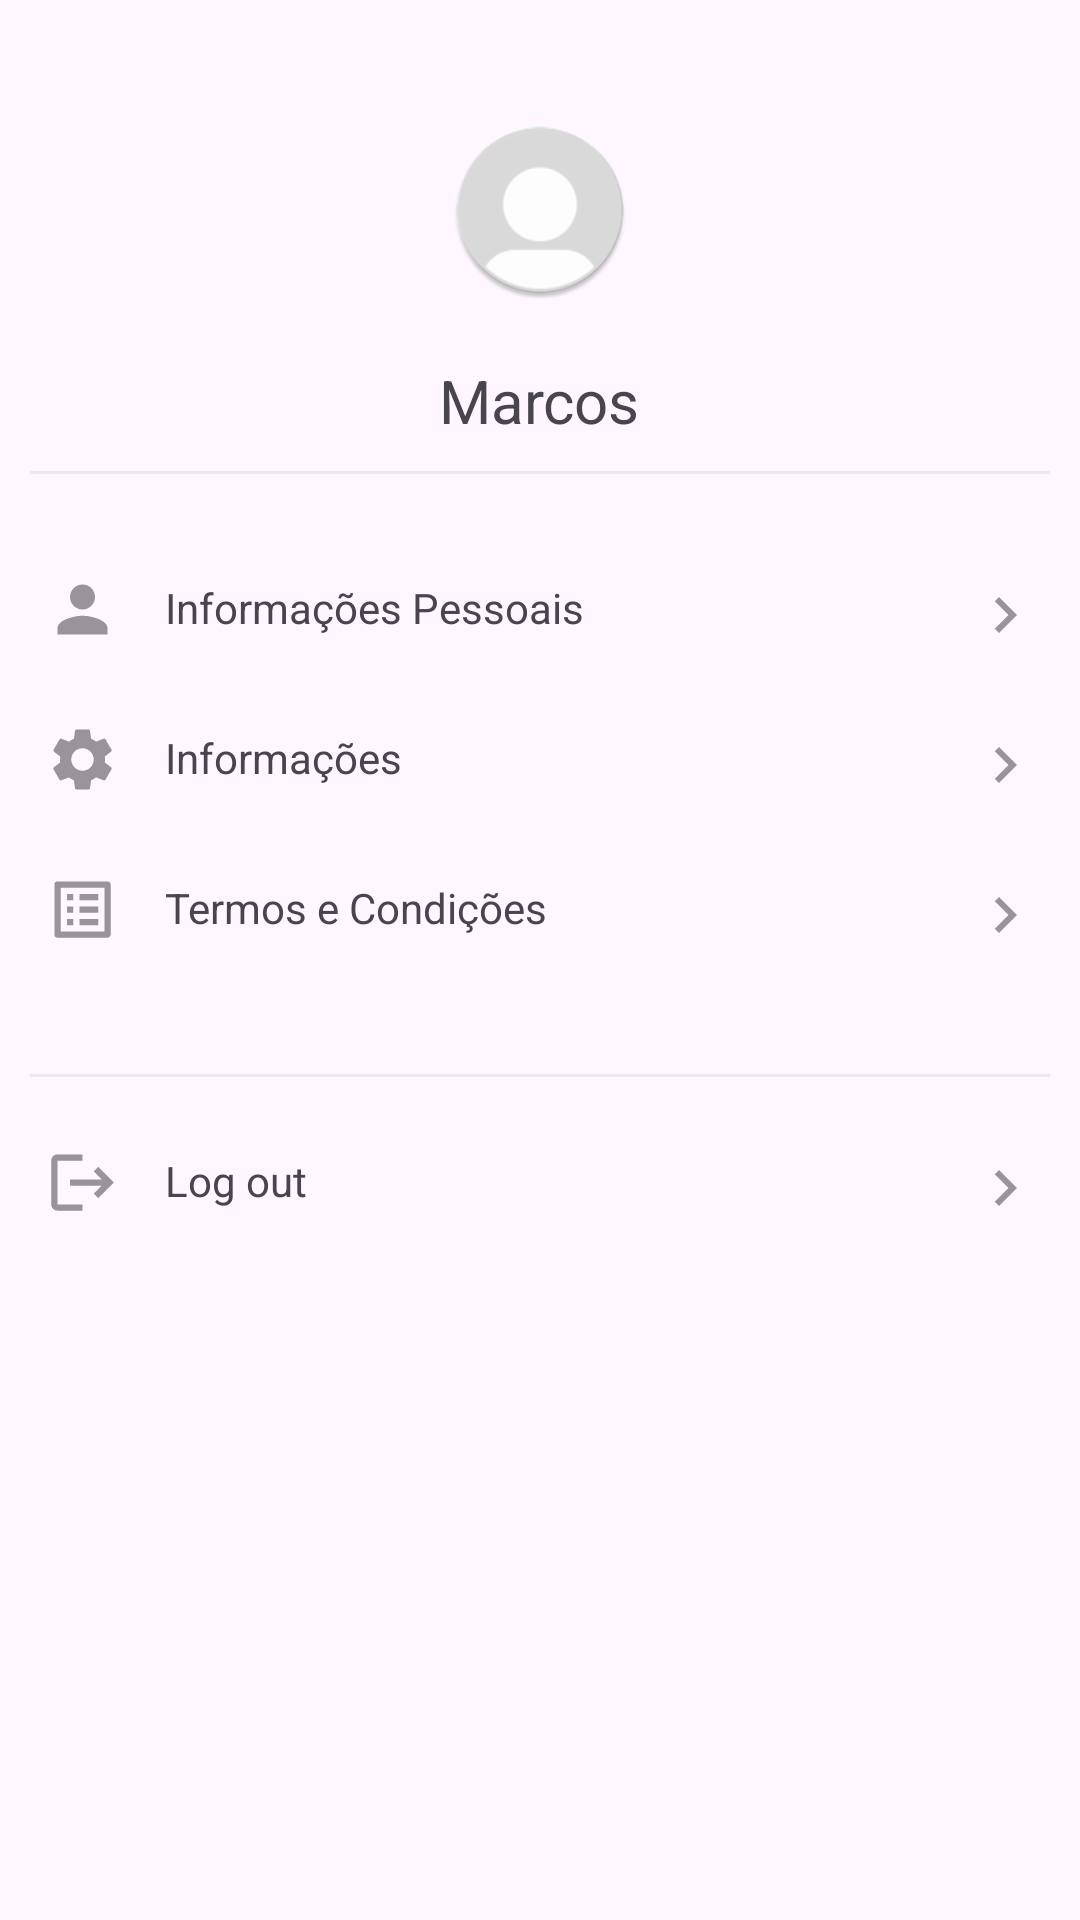

Where to tap for icons on this 1080 × 1920 app screen, as point (x, y):
profile chevron right: point (1006, 615), point (1006, 765), point (1006, 915), point (1006, 1188)
profile list: point (82, 909)
profile person: point (82, 609)
profile settings: point (82, 759)
